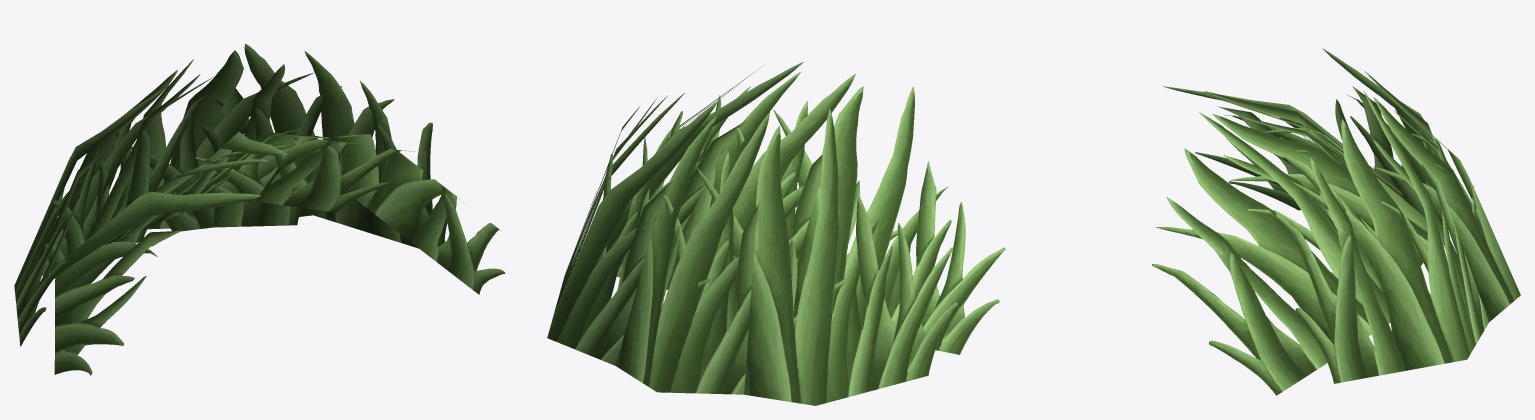
File: Grass.fbx
The picture shows the model from 3 angles, left to right: view 1: azimuth 30°, elevation 25°; view 2: azimuth 150°, elevation 25°; view 3: azimuth 270°, elevation 25°; orthographic projection. The views are drawn at different scales.
Parts seen in each view (by area): view 1: GrassPlane5, GrassPlane2, GrassPlane, GrassPlane3, GrassPlane1, GrassPlane4; view 2: GrassPlane2, GrassPlane, GrassPlane5, GrassPlane1, GrassPlane4, GrassPlane3; view 3: GrassPlane1, GrassPlane3, GrassPlane, GrassPlane4, GrassPlane5, GrassPlane2.
Boxes of the visible parts, x1,y1,x2,y2 form: GrassPlane5: (54,128,301,375); GrassPlane2: (14,70,213,346); GrassPlane: (44,50,341,278); GrassPlane3: (190,134,505,294); GrassPlane1: (130,43,447,248); GrassPlane4: (117,132,414,241); GrassPlane2: (660,108,957,405); GrassPlane: (579,112,847,394); GrassPlane5: (736,86,1005,354); GrassPlane1: (547,93,717,365); GrassPlane4: (649,72,905,289); GrassPlane3: (606,61,803,277); GrassPlane1: (1275,91,1488,383); GrassPlane3: (1152,112,1390,395); GrassPlane: (1364,72,1520,321); GrassPlane4: (1198,92,1427,276); GrassPlane5: (1163,86,1403,210); GrassPlane2: (1322,48,1447,225).
Bounding box in the file's own units: 607 × 363 × 649.
Materials: 1 (1 with a texture image).
